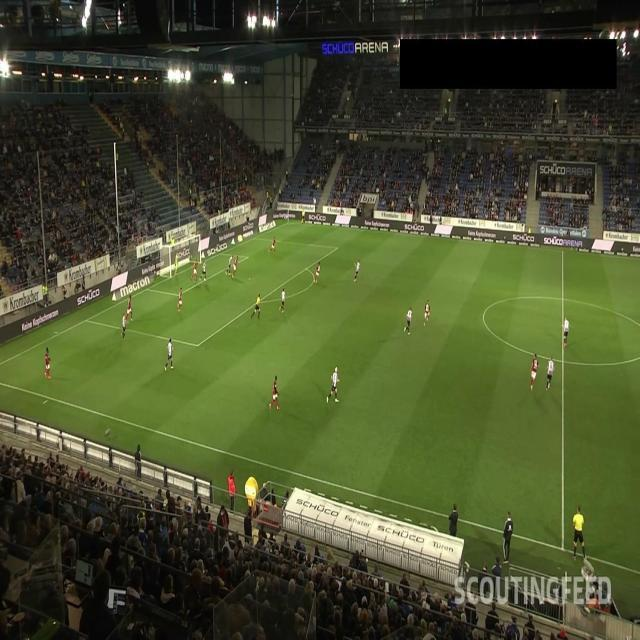goalkeeper: (573, 505, 587, 562), (174, 251, 179, 276)
player: (327, 366, 340, 404), (269, 376, 281, 411), (530, 353, 539, 392), (164, 338, 174, 371), (546, 355, 555, 391), (45, 347, 53, 380), (404, 306, 413, 335), (563, 316, 570, 348), (424, 299, 431, 327), (231, 255, 239, 279), (190, 259, 198, 283), (126, 295, 133, 322), (199, 260, 207, 283), (225, 255, 234, 275), (121, 312, 127, 340), (354, 259, 361, 282), (177, 288, 183, 314), (280, 287, 286, 313), (314, 263, 321, 285), (268, 237, 276, 254)
referee: (251, 293, 261, 321), (301, 208, 306, 225)
